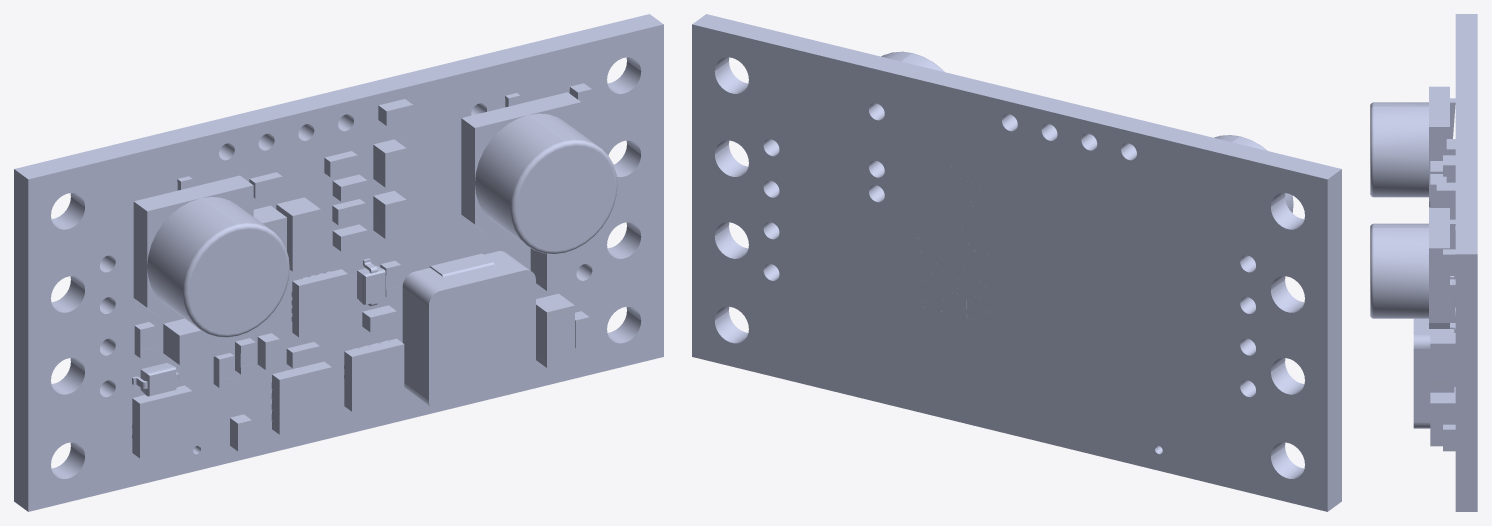
File: dcdc-5v.glb
3 views of the same model, side by side, from view 1: azimuth 30°, elevation 25°; view 2: azimuth 150°, elevation 25°; view 3: azimuth 270°, elevation 25° (orthographic). The views are drawn at different scales.
Parts seen in each view (by area): view 1: dcdc-5v; view 2: dcdc-5v; view 3: dcdc-5v.
Boxes of the visible parts, bbox=[...] form: dcdc-5v: bbox=[14, 14, 663, 511]; dcdc-5v: bbox=[692, 14, 1341, 511]; dcdc-5v: bbox=[1370, 14, 1477, 511].
Bounding box in the file's own units: 40.64 × 20.32 × 7.67.
